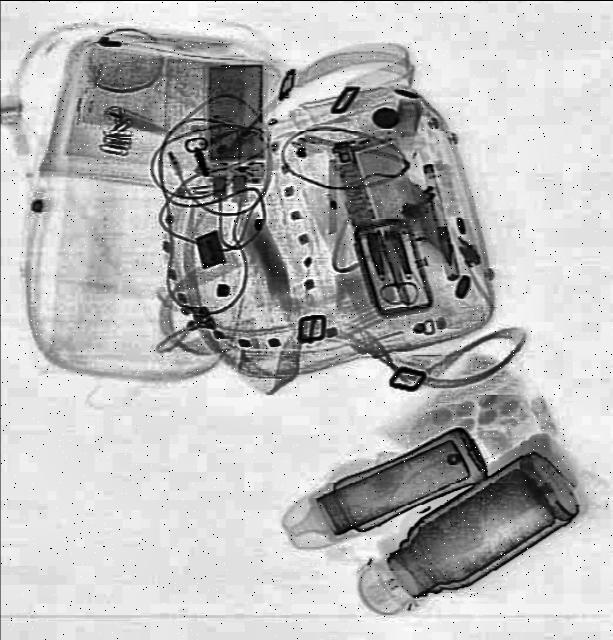Scissors: (364, 236, 417, 310)
